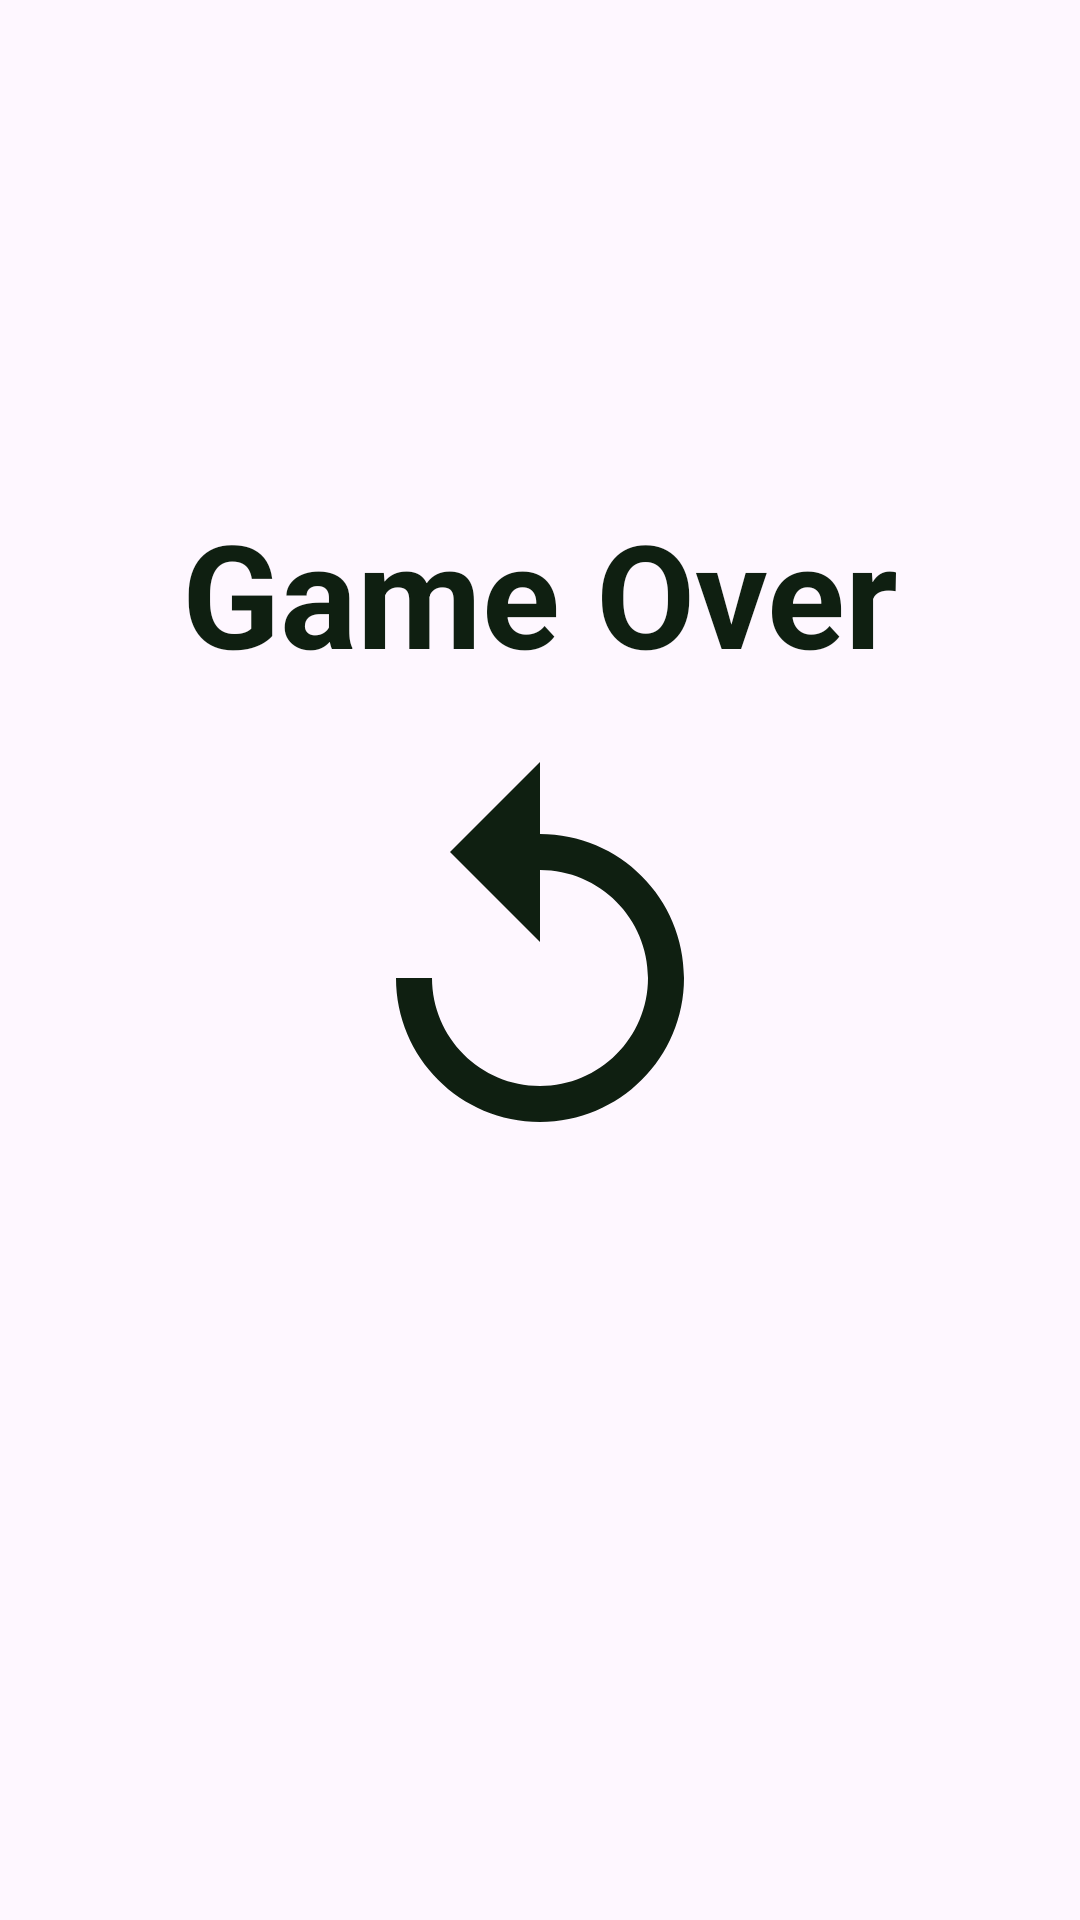

Icons on this 1080px×1920px Android screen, each with the point to tap as (x=x, y=y):
replay: (x=540, y=942)
